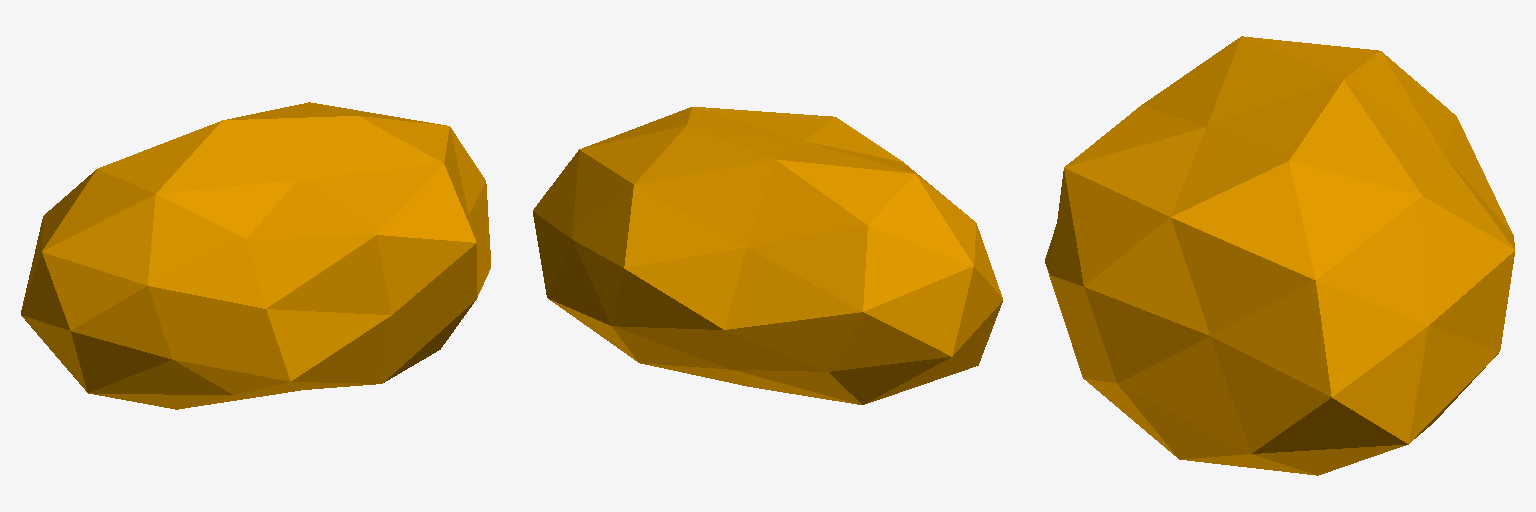
robot.urdf — train2295:
<?xml version="1.0"?>
<robot name="train2295">
  <link name="link">
    <contact>
      <lateral_friction value="0.6"/>
    </contact>
    <inertial>
      <mass value = "0.5496724394015156"/>
      <inertia ixx="0.0002493748514162799" ixy="-2.356869175735091e-20" ixz="-4.8119412337924765e-20" iyy="0.00042212691314493124" iyz="-1.767651881801318e-20" izz="0.0004897207505612678" />
    </inertial>
    <visual name="visual">
      <geometry>
        <mesh filename="train2295.obj"/>
      </geometry>
    </visual>
    <collision name="collision">
      <geometry>
        <mesh filename="train2295.obj"/>
      </geometry>
    </collision>
  </link>
</robot>

--- Facts derived from the render (not from the file) ---
Views: 3 orthographic renders of the robot side by side, from view 1: azimuth 30°, elevation 25°; view 2: azimuth 150°, elevation 25°; view 3: azimuth 270°, elevation 25°.
Model train2295 with 1 links and 0 joints (none), rooted at link, posed all joints at 0.
Visible links, largest first — view 1: link; view 2: link; view 3: link.
Boxes of the visible links, x1,y1,x2,y2 form: link: (21,102,490,409); link: (533,107,1002,404); link: (1045,36,1514,475).
Bounding box of the posed robot: 0.113 × 0.0788 × 0.0594 m (x, y, z).
1 mesh visuals loaded from 1 distinct referenced files (1 OBJ).
